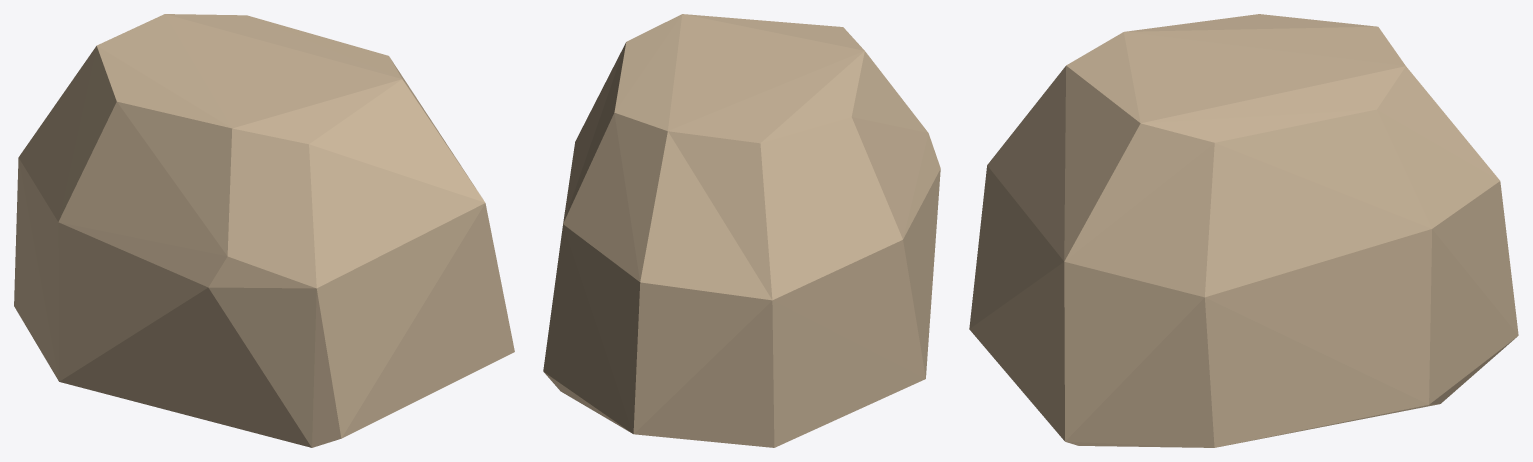
The model's file is SM_Env_Rock_015.fbx.
3 views of the same model, side by side, from view 1: azimuth 30°, elevation 25°; view 2: azimuth 150°, elevation 25°; view 3: azimuth 270°, elevation 25° (orthographic). The views are drawn at different scales.
Visible parts, largest first — view 1: SM_Env_Rock_015; view 2: SM_Env_Rock_015; view 3: SM_Env_Rock_015.
Part boxes in pixels (bbox=[...]): SM_Env_Rock_015: bbox=[14, 14, 514, 447]; SM_Env_Rock_015: bbox=[543, 14, 940, 447]; SM_Env_Rock_015: bbox=[969, 14, 1518, 447].
Bounding box in the file's own units: 0.0048 × 0.00329 × 0.00564.
Materials: 1 (1 with a texture image).
